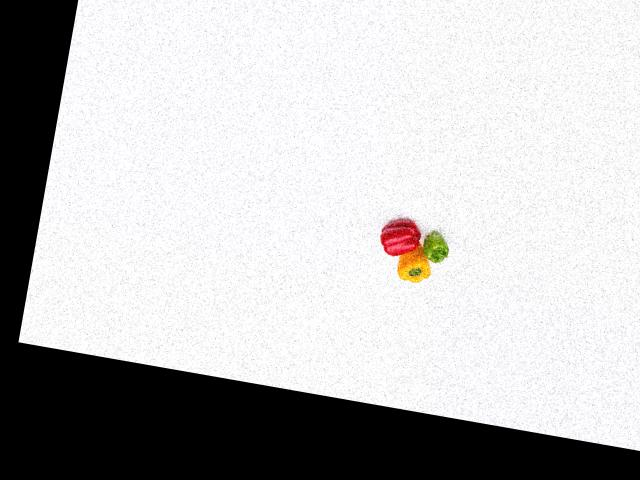bell_pepper: (419, 228, 458, 268)
